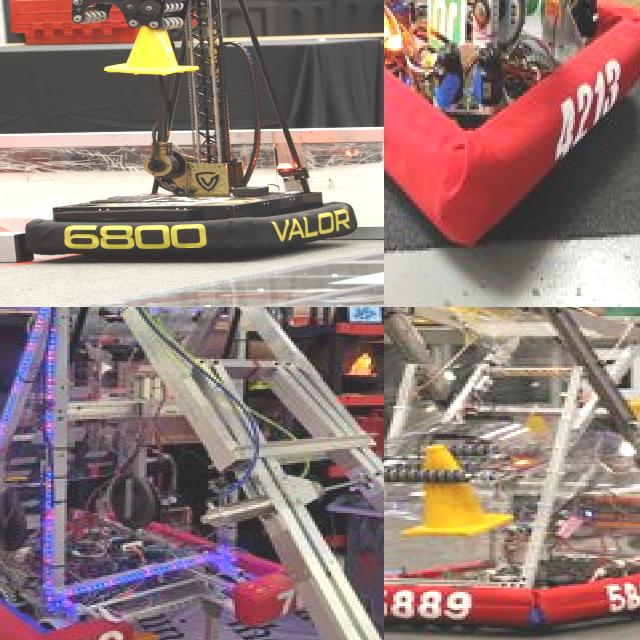FRC-Robots: (0, 307, 384, 640), (0, 0, 379, 270), (384, 307, 640, 640), (384, 0, 640, 288)
